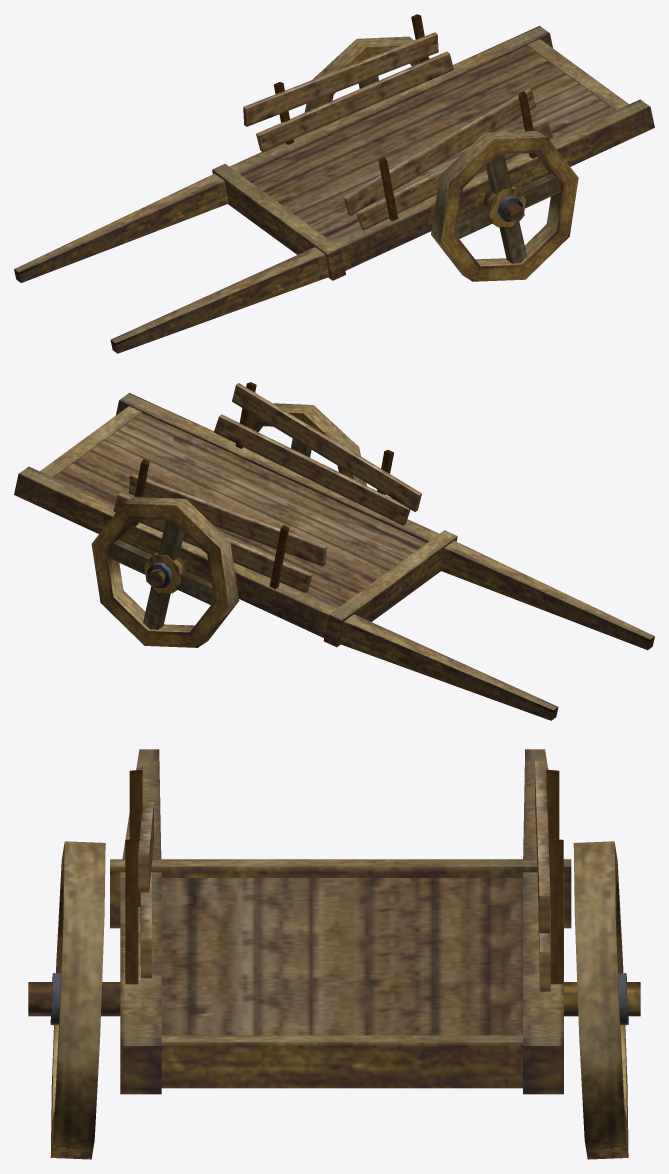
File: b_general_obj_21.fbx
3 renders of one model, top to bottom at view 1: azimuth 30°, elevation 25°; view 2: azimuth 150°, elevation 25°; view 3: azimuth 270°, elevation 25°, orthographic. The views are drawn at different scales.
Parts seen in each view (by area): view 1: Sphere01; view 2: Sphere01; view 3: Sphere01.
Part boxes in pixels (bbox=[...]): Sphere01: bbox=[14, 14, 654, 353]; Sphere01: bbox=[14, 382, 654, 720]; Sphere01: bbox=[28, 749, 640, 1159].
Size of the model in its own units: 4.77 by 1.44 by 2.36.
